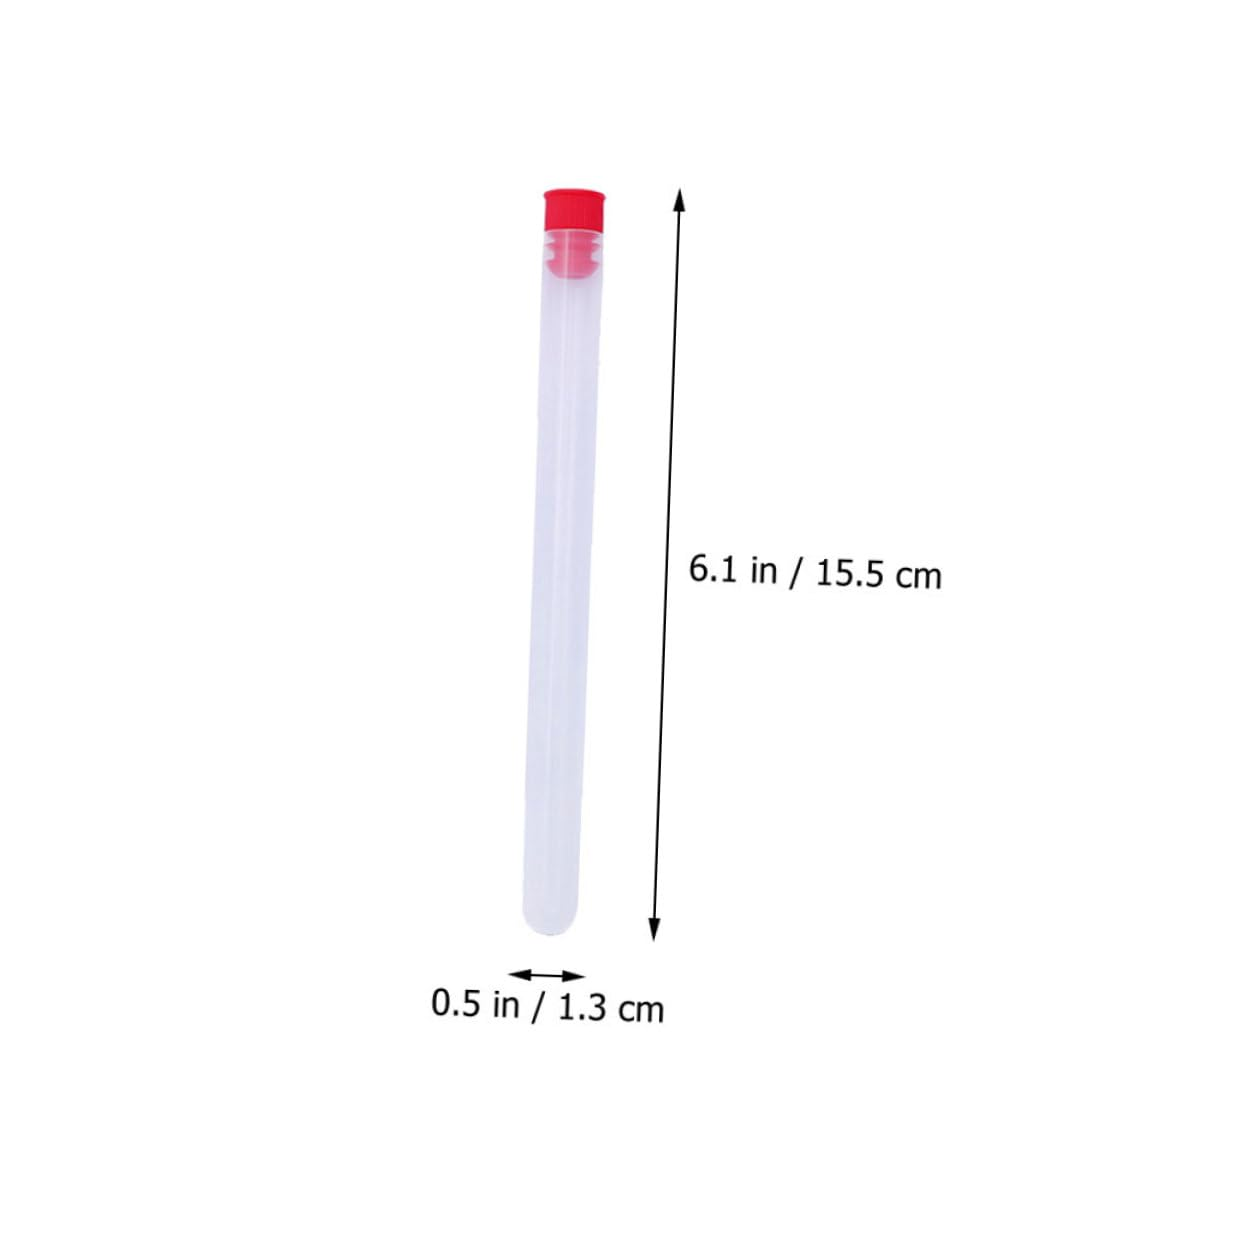0.5: (432, 988, 480, 1017)
6.1: (690, 554, 736, 582)
in/: (752, 556, 803, 590)
